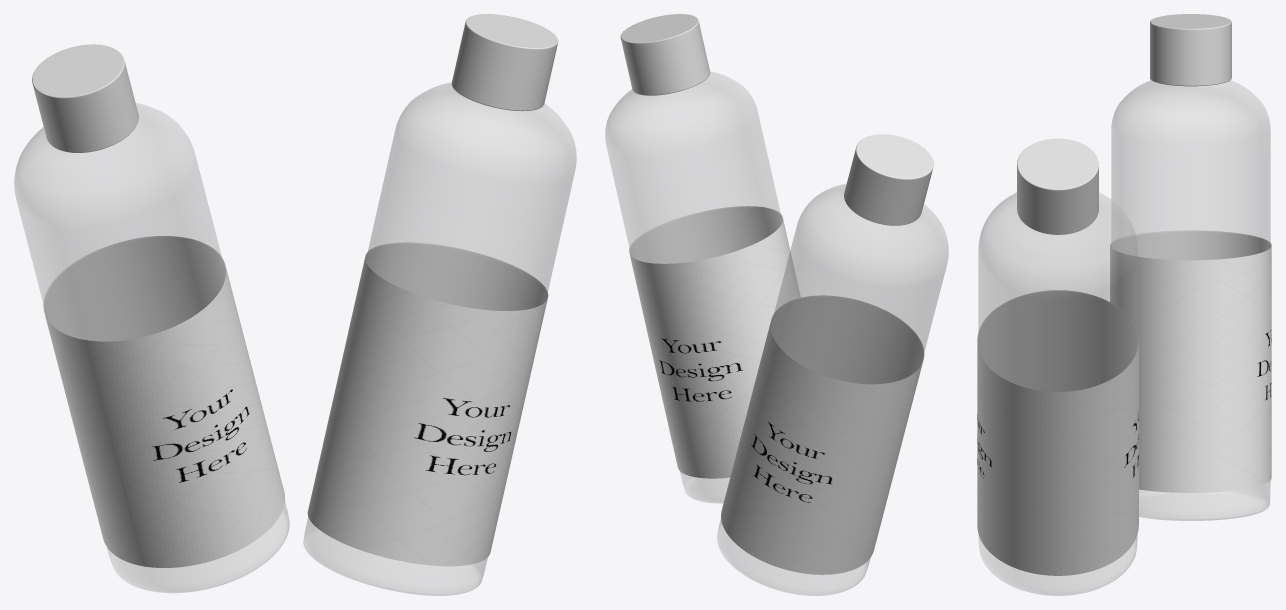
The model's file is Glass_Bottle-A3.glb.
3 views of the same model, side by side, from view 1: azimuth 30°, elevation 25°; view 2: azimuth 150°, elevation 25°; view 3: azimuth 270°, elevation 25° (orthographic). The views are drawn at different scales.
Parts seen in each view (by area): view 1: Circle.005, Circle.007, Circle.004, Circle.006, Circle.008, Circle.002, Circle.003, Circle.001; view 2: Circle.007, Circle.006, Circle.004, Circle.005, Circle.008, Circle.002, Circle.003, Circle.001; view 3: Circle.007, Circle.006, Circle.005, Circle.004, Circle.001, Circle.003, Circle.002, Circle.008.
Boxes of the visible parts, x1,y1,x2,y2 form: Circle.005: [307, 242, 548, 566]; Circle.007: [43, 236, 285, 567]; Circle.004: [303, 82, 576, 595]; Circle.006: [14, 103, 289, 592]; Circle.008: [44, 237, 226, 341]; Circle.002: [32, 44, 138, 152]; Circle.003: [451, 14, 558, 111]; Circle.001: [365, 243, 547, 310]; Circle.007: [721, 295, 924, 574]; Circle.006: [717, 184, 948, 595]; Circle.004: [605, 72, 782, 503]; Circle.005: [629, 206, 800, 478]; Circle.008: [770, 296, 923, 384]; Circle.002: [844, 134, 933, 225]; Circle.003: [620, 14, 710, 95]; Circle.001: [630, 207, 782, 263]; Circle.007: [1110, 230, 1271, 492]; Circle.006: [1111, 80, 1270, 520]; Circle.005: [977, 290, 1138, 575]; Circle.004: [978, 192, 1137, 595]; Circle.001: [978, 291, 1138, 391]; Circle.003: [1017, 138, 1098, 234]; Circle.002: [1150, 14, 1231, 86]; Circle.008: [1110, 231, 1270, 260].
Size of the model in its own units: 5.72 by 6.43 by 3.67.
4 materials, 1 textured.
